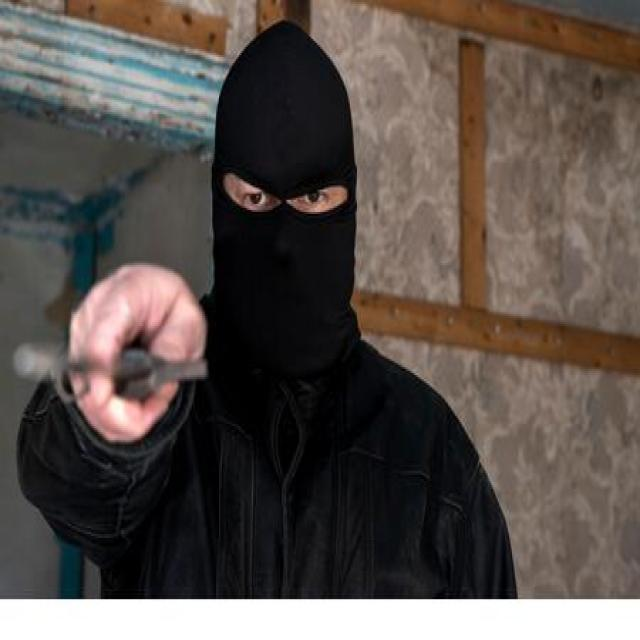6_pasamontana: (209, 21, 360, 384)
